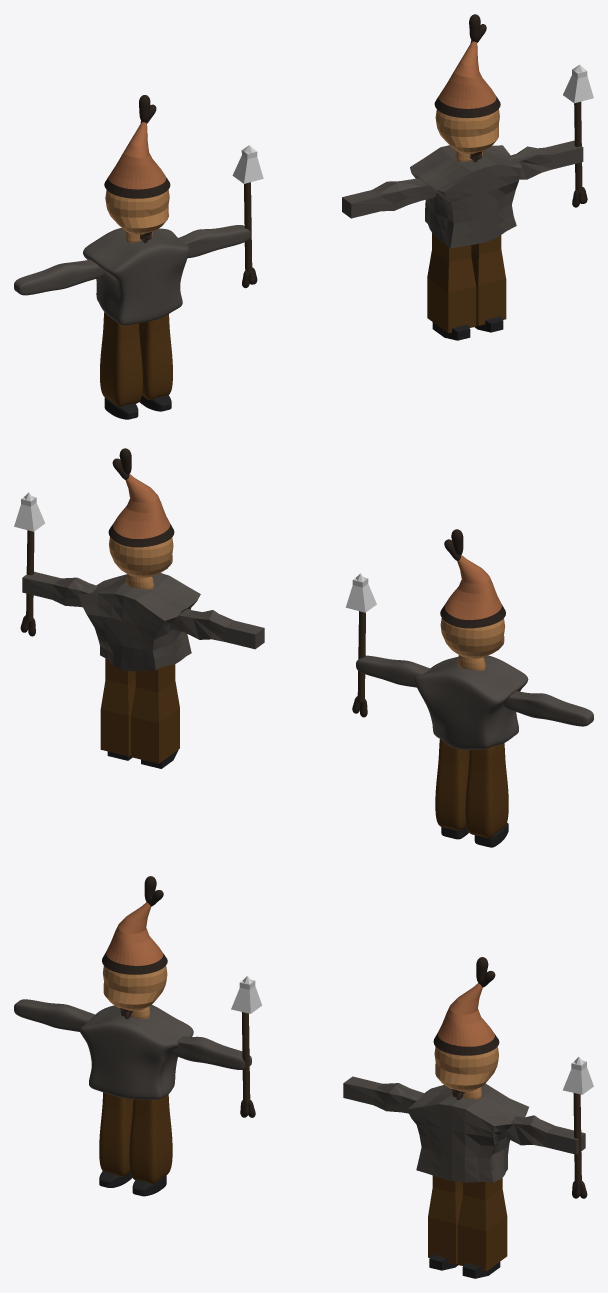
The model's file is разбойникк.fbx.
3 views of the same model, one above another, from view 1: azimuth 30°, elevation 25°; view 2: azimuth 150°, elevation 25°; view 3: azimuth 330°, elevation 25° (orthographic).
Visible parts, largest first — view 1: Subdivision_Surface_7, Объект_Куб_8, Объект_Куб_4, Объект_Конус, Объект_Куб_3, Объект_Куб_6, Объект_Сфера, Объект_Куб_7, Объект_Куб_5, Объект_Цилиндр; view 2: Subdivision_Surface_7, Объект_Куб_8, Объект_Куб_4, Объект_Конус, Объект_Куб_3, Объект_Куб_6, Объект_Сфера, Объект_Куб_7, Объект_Куб_5, Объект_Цилиндр; view 3: Subdivision_Surface_7, Объект_Куб_8, Объект_Куб_3, Объект_Конус, Объект_Куб_4, Объект_Сфера, Объект_Куб_7, Объект_Куб_6, Объект_Куб_5, Объект_Цилиндр.
Boxes of the visible parts, x1,y1,x2,y2 form: Subdivision_Surface_7: [14, 95, 263, 419]; Объект_Куб_8: [410, 145, 521, 248]; Объект_Куб_4: [427, 233, 476, 333]; Объект_Конус: [434, 41, 500, 118]; Объект_Куб_3: [471, 235, 506, 325]; Объект_Куб_6: [342, 178, 436, 218]; Объект_Сфера: [435, 109, 499, 154]; Объект_Куб_7: [507, 140, 583, 179]; Объект_Куб_5: [563, 64, 593, 103]; Объект_Цилиндр: [574, 101, 582, 192]; Subdivision_Surface_7: [345, 529, 593, 847]; Объект_Куб_8: [79, 573, 200, 671]; Объект_Куб_4: [131, 664, 179, 763]; Объект_Конус: [108, 474, 174, 547]; Объект_Куб_3: [100, 658, 135, 756]; Объект_Куб_6: [169, 609, 264, 649]; Объект_Сфера: [109, 537, 173, 577]; Объект_Куб_7: [22, 571, 97, 607]; Объект_Куб_5: [14, 492, 45, 531]; Объект_Цилиндр: [26, 530, 34, 621]; Subdivision_Surface_7: [14, 876, 262, 1196]; Объект_Куб_8: [407, 1083, 528, 1182]; Объект_Куб_3: [458, 1178, 507, 1271]; Объект_Конус: [433, 983, 499, 1055]; Объект_Куб_4: [428, 1175, 462, 1264]; Объект_Сфера: [434, 1046, 498, 1091]; Объект_Куб_7: [501, 1115, 585, 1154]; Объект_Куб_6: [343, 1076, 424, 1113]; Объект_Куб_5: [563, 1057, 593, 1094]; Объект_Цилиндр: [573, 1093, 581, 1184].
Size of the model in its own units: 1992 by 1024 by 213.
